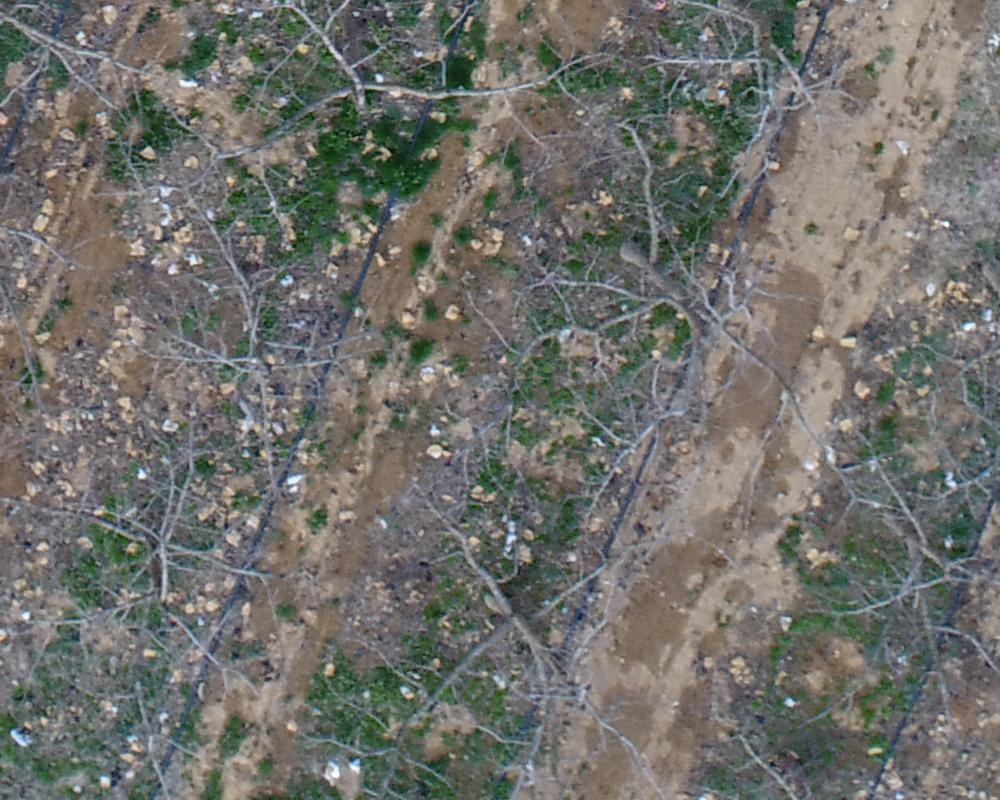apple: (508, 120, 819, 502), (331, 470, 669, 790), (10, 417, 305, 697), (188, 10, 613, 201), (125, 160, 373, 444), (791, 432, 990, 728), (620, 10, 888, 184)
